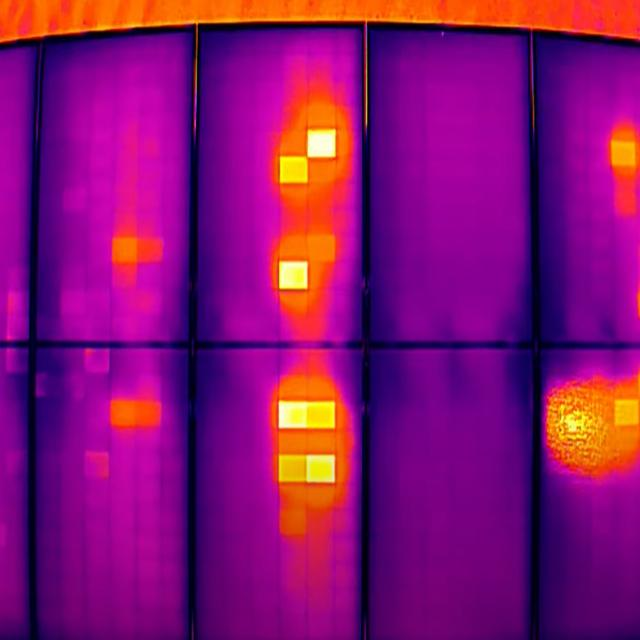hotspot group: (269, 73, 363, 338), (270, 360, 355, 540), (545, 368, 640, 476), (100, 220, 170, 291), (597, 109, 640, 224), (105, 374, 170, 450)
panel with hotspots: (198, 16, 368, 356), (37, 15, 195, 354), (191, 345, 368, 640), (31, 346, 194, 640), (531, 35, 640, 346), (535, 346, 640, 640)
